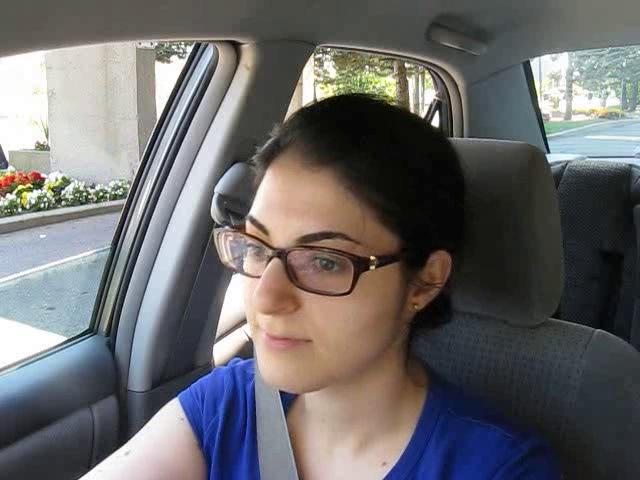no_yawn: (244, 320, 323, 361)
open_eyeL: (232, 233, 281, 275)
open_eyeR: (293, 242, 364, 290)
